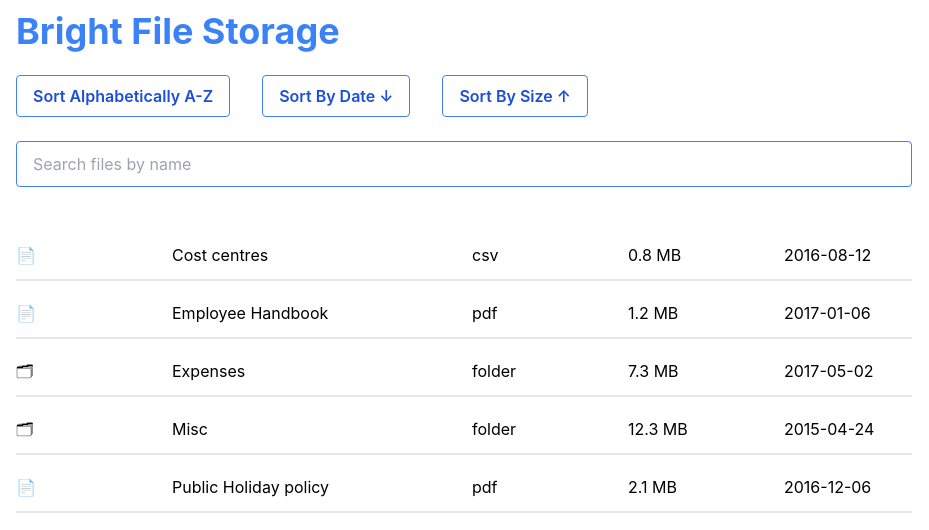
Test case: Filestorage <App /> › can sort the files by date added
Check: the text with test id "file-name" reads "Cost centres", box [172, 245, 268, 265]
Click the button "Sort By Date ↓": (336,96) [262, 75, 410, 117]
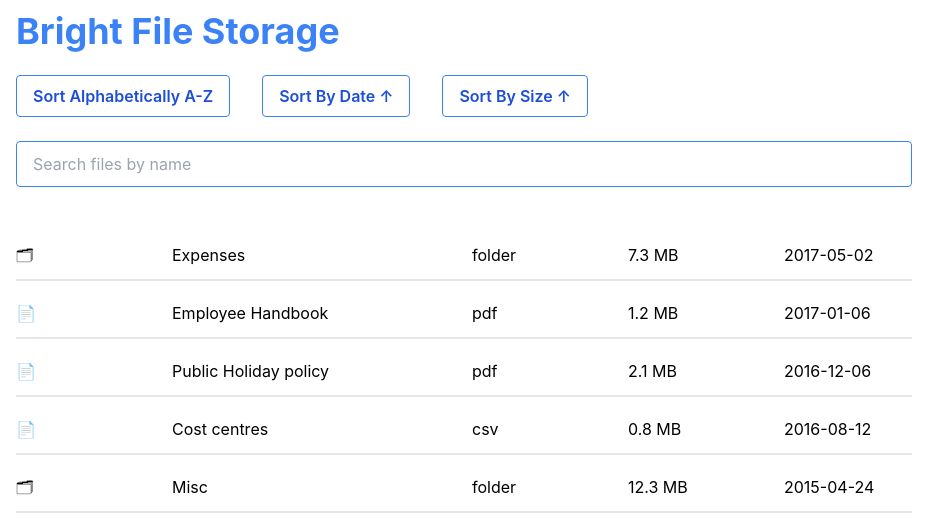
Check: the text with test id "file-name" reads "Expenses", box [172, 245, 245, 265]
